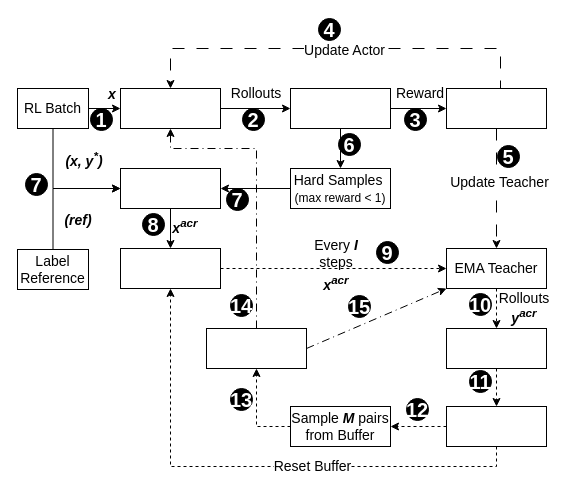
Some shapes in this 572 by 492 pixel diagram are drawn without their labels. The box of each missing label's shape, as (x1, y1, x2, y2) in pixels:
ACR Prompt Buffer: (120, 248, 220, 288)
Actor Policy: (120, 88, 220, 128)
Conditioned Prompt: (120, 168, 220, 208)
Distill Buffer (x, y acr ): (446, 406, 546, 446)
Filtering: (446, 328, 546, 368)
GRPO: (446, 88, 546, 128)
SFT: (206, 328, 306, 368)
Verifier: (290, 88, 390, 128)
